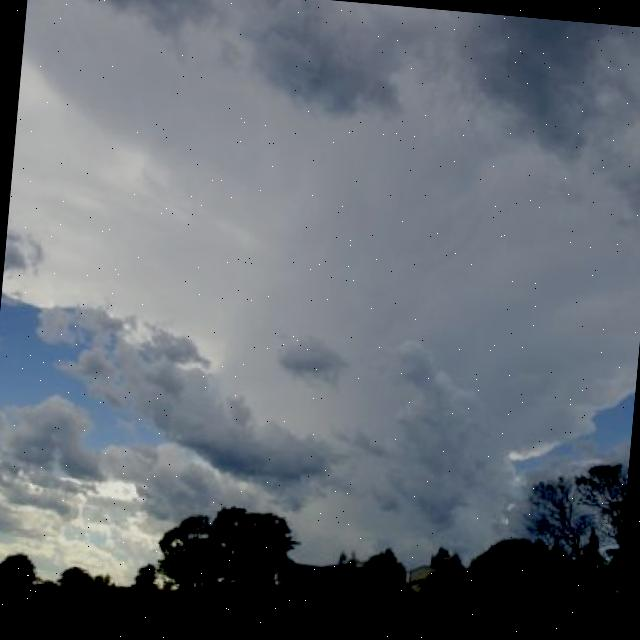Cb: (1, 1, 640, 499)
